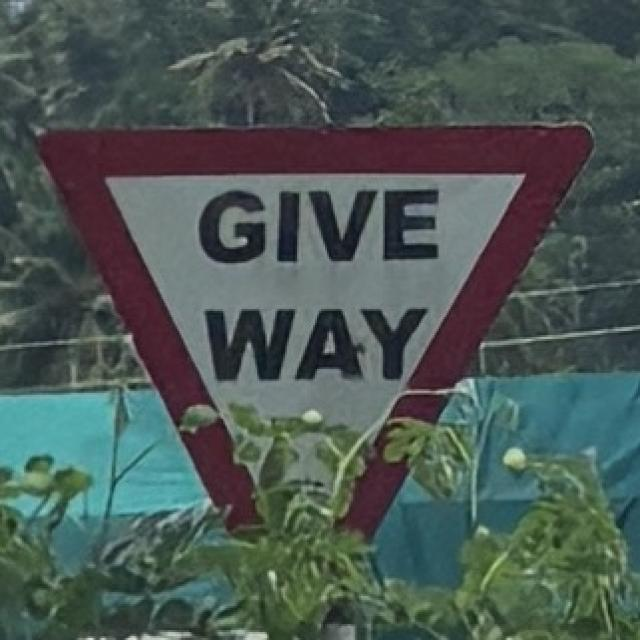GIVE_WAY: (36, 122, 598, 615)
